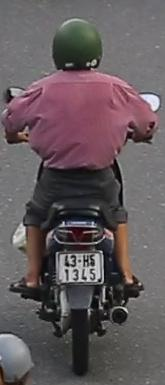LP: (57, 249, 106, 286)
helmet: (49, 15, 105, 83), (0, 333, 36, 385)
